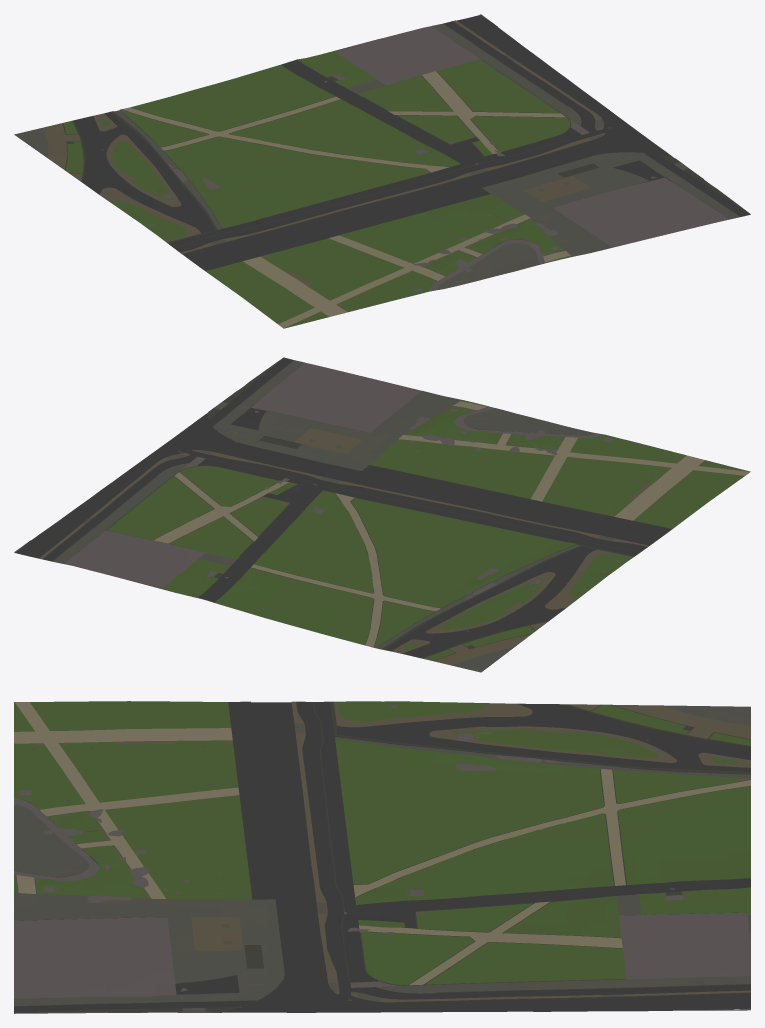
3 renders of one model, top to bottom at view 1: azimuth 30°, elevation 25°; view 2: azimuth 150°, elevation 25°; view 3: azimuth 270°, elevation 25°, orthographic. The views are drawn at different scales.
Parts seen in each view (by area): view 1: c_m07_m05; view 2: c_m07_m05; view 3: c_m07_m05.
Part boxes in pixels (x1,y1,x2,y2): c_m07_m05: [14, 14, 750, 328]; c_m07_m05: [14, 357, 750, 672]; c_m07_m05: [14, 701, 750, 1013].
Size of the model in its own units: 128 by 2.21 by 128.
